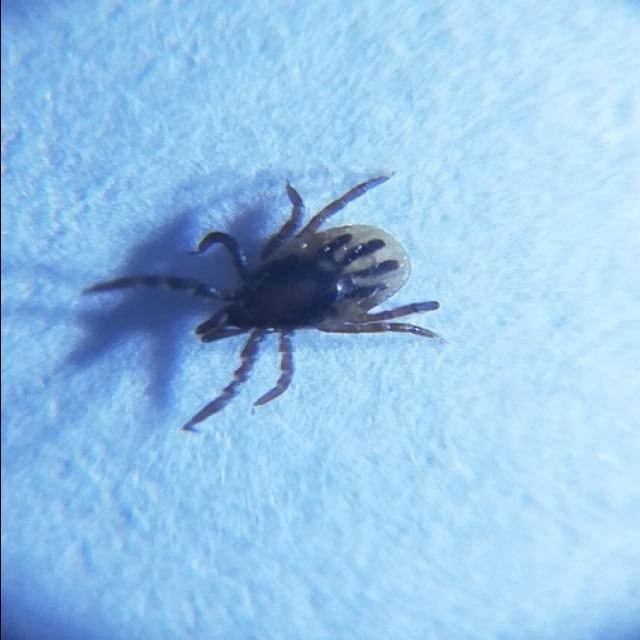Ixodes Ricinus-F: (82, 175, 439, 430)
